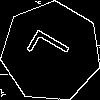L: (26, 27, 79, 74)
